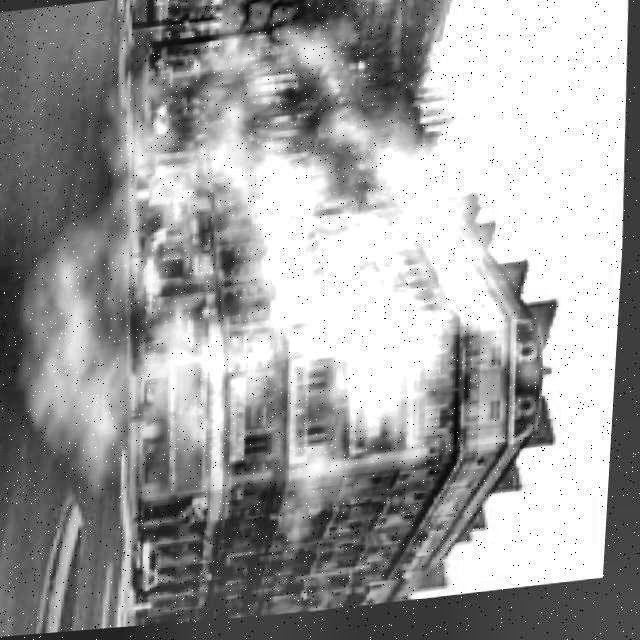Smoke: (17, 0, 567, 612)
